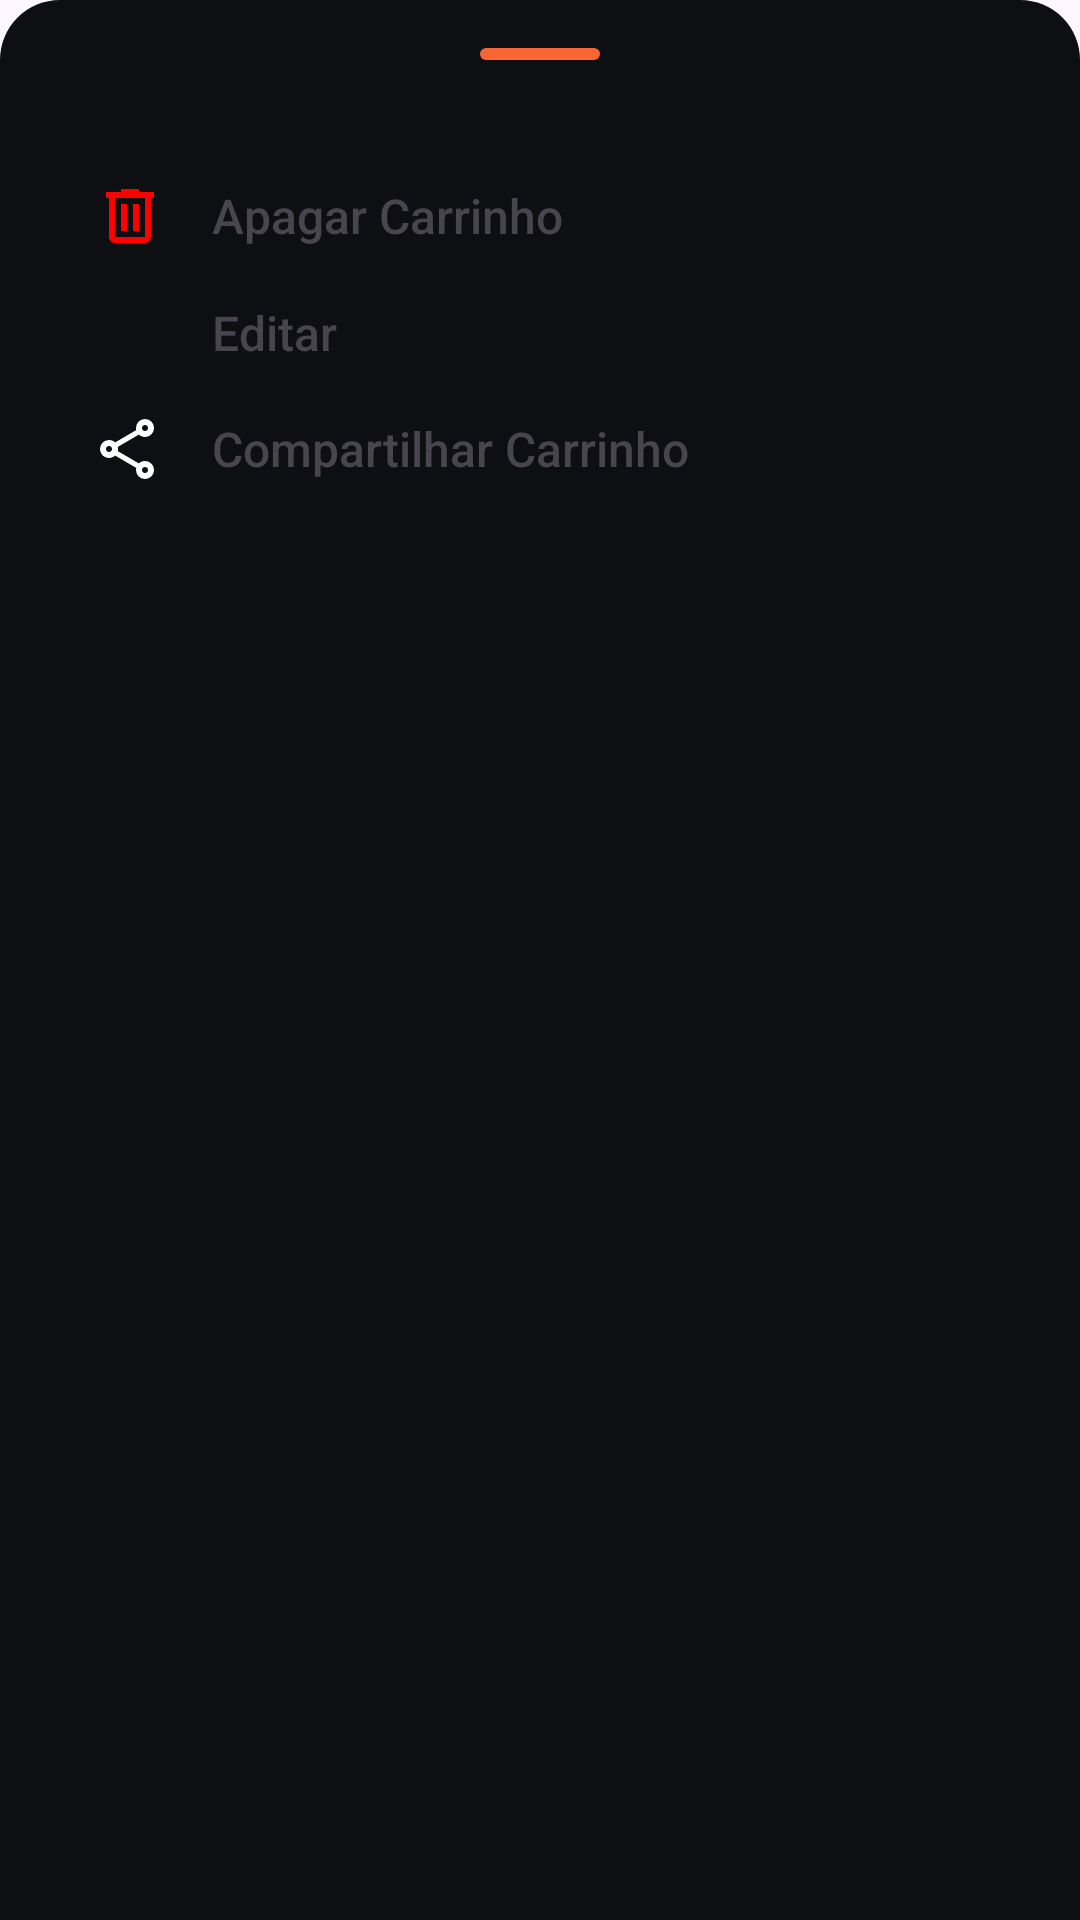

Icons on this 1080 × 1920 Android screen, each with the point to tap as (x=x, y=y):
delete: (x=130, y=216)
share: (x=127, y=449)
